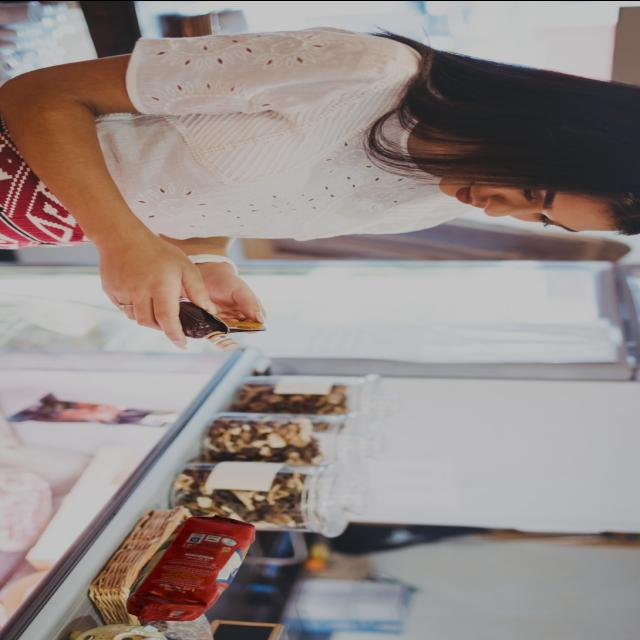mate bag: (126, 514, 258, 622)
